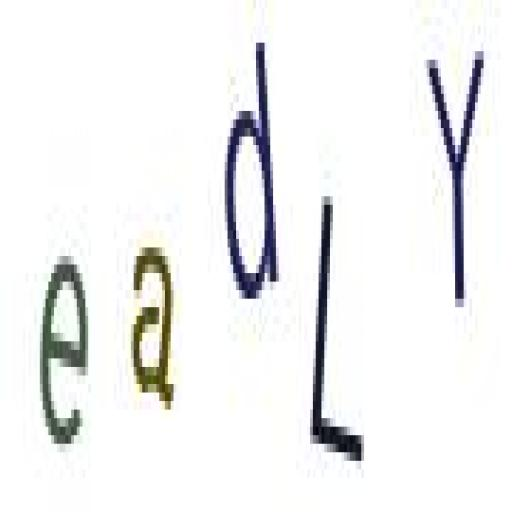L: (307, 170, 369, 487)
Y: (428, 35, 494, 323)
a: (127, 229, 183, 425)
b: (218, 24, 278, 319)
e: (33, 241, 97, 464)
